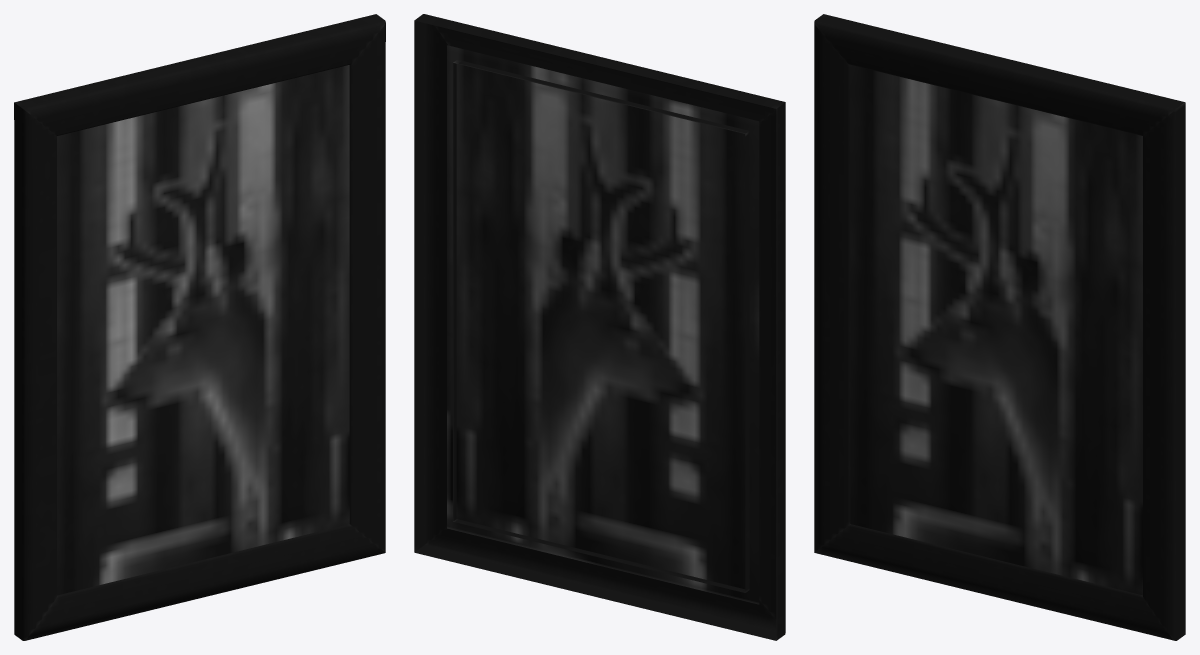
File: Prop_PictureTable_11.fbx
The picture shows the model from 3 angles, left to right: view 1: azimuth 30°, elevation 25°; view 2: azimuth 150°, elevation 25°; view 3: azimuth 330°, elevation 25°; orthographic projection.
Visible parts, largest first — view 1: Prop_PictureTable_11; view 2: Prop_PictureTable_11; view 3: Prop_PictureTable_11.
Part boxes in pixels (x1,y1,x2,y2): Prop_PictureTable_11: (14,14,385,640); Prop_PictureTable_11: (414,14,785,640); Prop_PictureTable_11: (814,14,1185,640).
Size of the model in its own units: 13.21 by 18.54 by 0.6789.
